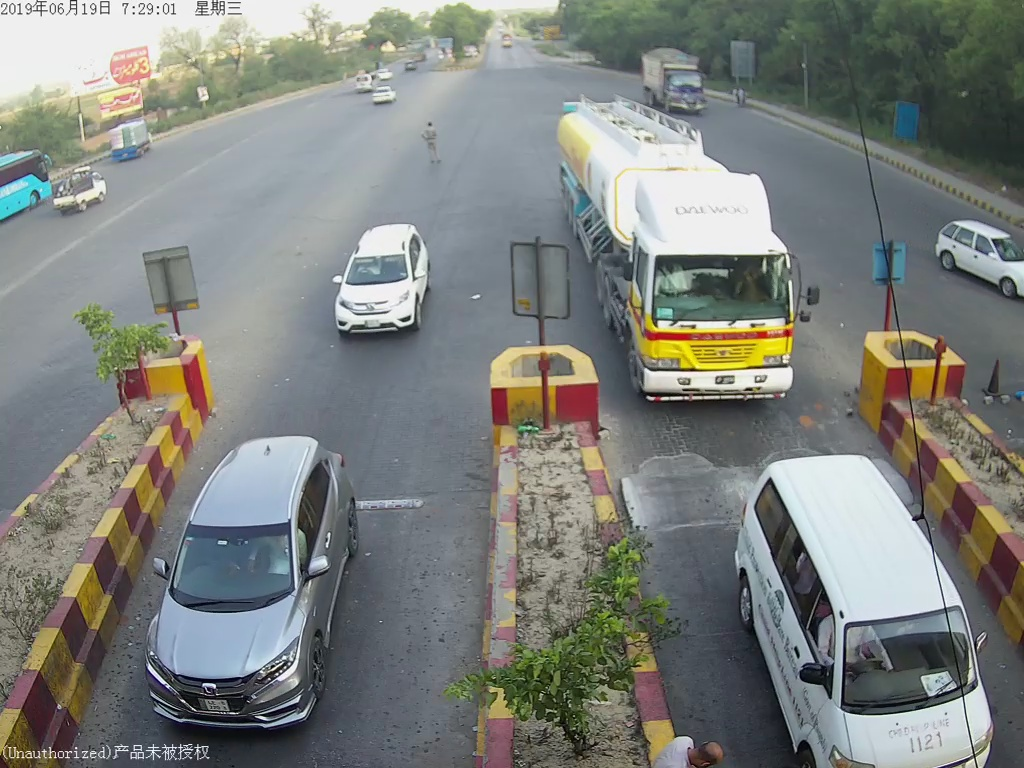Cat-1: (727, 441, 996, 750), (140, 445, 360, 731), (324, 224, 436, 328)
Cat-5: (553, 92, 817, 410)
